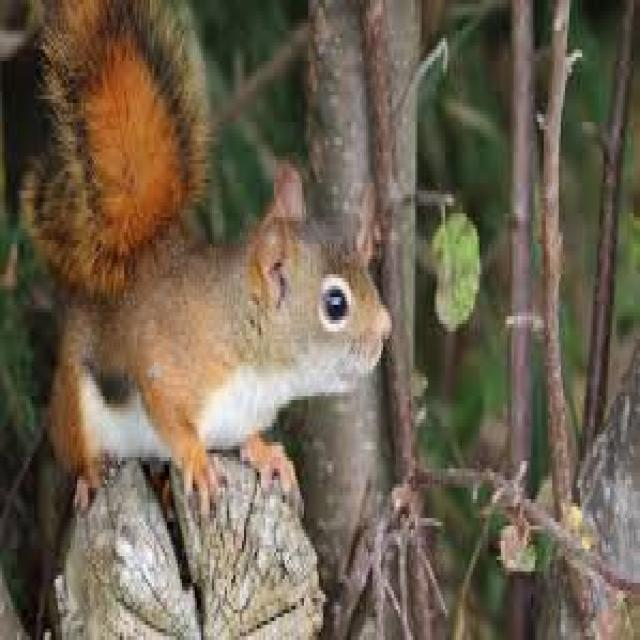Squirrel: (33, 0, 396, 474)
